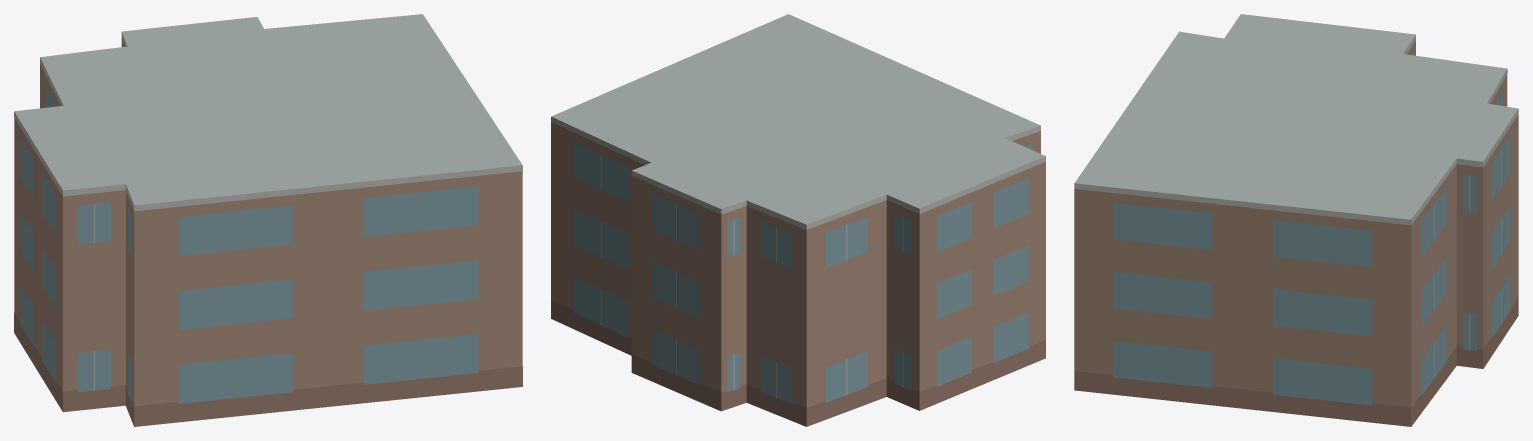
The model's file is survey-upis-32469601.glb.
The picture shows the model from 3 angles, left to right: view 1: azimuth 30°, elevation 25°; view 2: azimuth 150°, elevation 25°; view 3: azimuth 270°, elevation 25°; orthographic projection. The views are drawn at different scales.
Visible parts, largest first — view 1: survey-upis-32469601.tmp; view 2: survey-upis-32469601.tmp; view 3: survey-upis-32469601.tmp.
Boxes of the visible parts, <box> form: survey-upis-32469601.tmp: <box>14,14,522,426</box>; survey-upis-32469601.tmp: <box>551,14,1045,426</box>; survey-upis-32469601.tmp: <box>1074,14,1518,426</box>.
Size of the model in its own units: 19.5 by 9.15 by 17.79.
